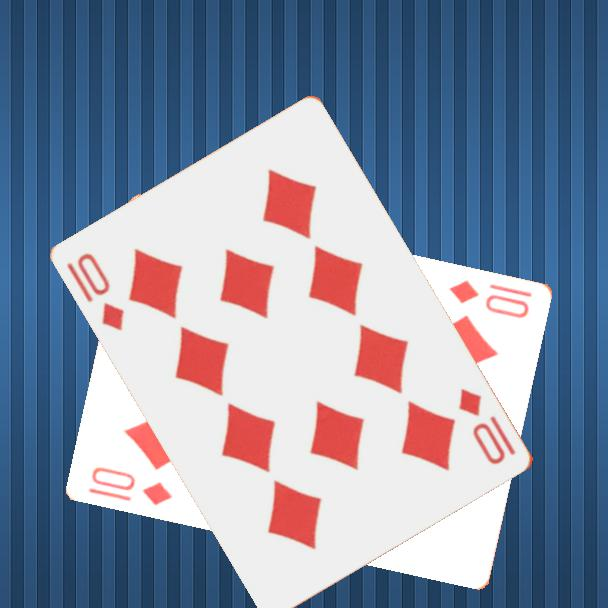d10: (63, 249, 128, 334), (455, 385, 520, 468), (85, 462, 176, 508), (446, 276, 533, 321)
